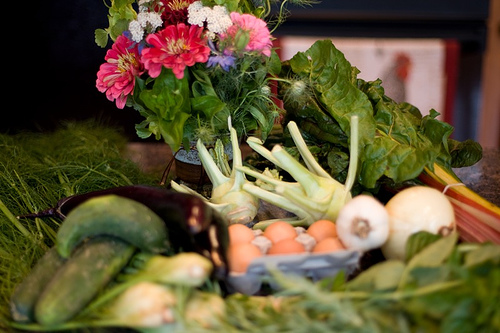cucumber: (12, 197, 160, 324)
